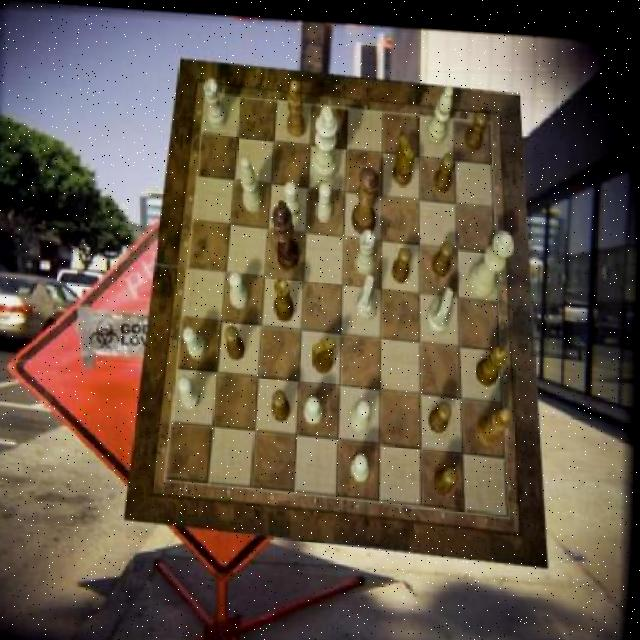bishop: (478, 399, 512, 441), (288, 75, 308, 134)
black-bishop: (272, 196, 301, 268)
black-king: (393, 130, 416, 182), (313, 332, 336, 371)
black-knight: (465, 105, 488, 147), (434, 147, 455, 188), (429, 395, 453, 429), (393, 239, 413, 278), (433, 235, 454, 272), (435, 460, 460, 489), (227, 321, 247, 357), (274, 385, 292, 419)
black-pawn: (352, 162, 379, 232)
black-queen: (477, 339, 509, 381), (276, 273, 297, 318)
black-rook: (427, 79, 453, 141), (240, 154, 264, 210)
white-bishop: (312, 101, 339, 178)
white-king: (427, 281, 454, 328), (357, 268, 378, 315)
white-knight: (180, 373, 203, 408), (183, 324, 207, 357), (231, 268, 251, 305), (316, 178, 334, 218), (352, 395, 373, 429), (284, 176, 301, 213), (353, 450, 371, 478), (306, 394, 324, 422)
white-pawn: (469, 223, 514, 293)
white-queen: (203, 75, 227, 127), (356, 224, 376, 270)
